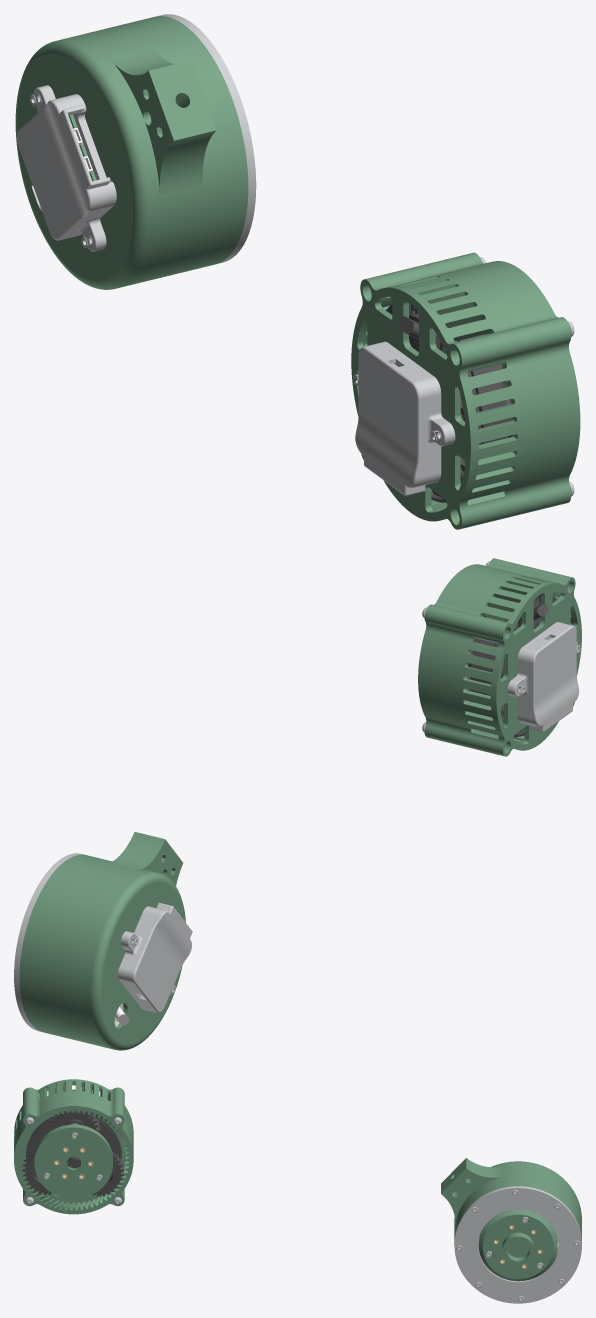
The model's file is actuator.glb.
3 renders of one model, top to bottom at view 1: azimuth 30°, elevation 25°; view 2: azimuth 150°, elevation 25°; view 3: azimuth 270°, elevation 25°, orthographic. The views are drawn at different scales.
Visible parts, largest first — view 1: lower_new_1_OpenQDD_Actuator_wheel_novos_rolamentos_2_motor_ (×6), OpenQDD_Actuator_reduced_novos_rolamentos_1_motor_1_BLDC_Cas, OpenQDD_Actuator_reduced_novos_rolamentos_1_motor_1_Output_B (×2), OpenQDD_Actuator_reduced_novos_rolamentos_1_motor_1_Componen (×2), OpenQDD_Actuator_reduced_novos_rolamentos_1_motor_1_Eagle_Po (×2); view 2: lower_new_1_OpenQDD_Actuator_wheel_novos_rolamentos_2_motor_ (×6), OpenQDD_Actuator_reduced_novos_rolamentos_1_motor_1_BLDC_Cas, OpenQDD_Actuator_reduced_novos_rolamentos_1_motor_1_Output_B (×2), OpenQDD_Actuator_reduced_novos_rolamentos_1_motor_1_Componen (×2); view 3: lower_new_1_OpenQDD_Actuator_wheel_novos_rolamentos_2_motor_ (×5), OpenQDD_Actuator_reduced_novos_rolamentos_1_motor_1_Planet_C (×2), OpenQDD_Actuator_reduced_novos_rolamentos_1_motor_1_Output_B (×2), OpenQDD_Actuator_reduced_novos_rolamentos_1_motor_1_BLDC_Cas, OpenQDD_Actuator_reduced_novos_rolamentos_1_motor_1_28T_Heli (×3).
Boxes of the visible parts, box(x1,y1,x2,y2) form: lower_new_1_OpenQDD_Actuator_wheel_novos_rolamentos_2_motor_ (×6): box(15, 14, 256, 289); OpenQDD_Actuator_reduced_novos_rolamentos_1_motor_1_BLDC_Cas: box(351, 263, 535, 529); OpenQDD_Actuator_reduced_novos_rolamentos_1_motor_1_Output_B (×2): box(429, 252, 580, 513); OpenQDD_Actuator_reduced_novos_rolamentos_1_motor_1_Componen (×2): box(355, 341, 455, 495); OpenQDD_Actuator_reduced_novos_rolamentos_1_motor_1_Eagle_Po (×2): box(386, 303, 505, 502); lower_new_1_OpenQDD_Actuator_wheel_novos_rolamentos_2_motor_ (×6): box(14, 832, 192, 1050); OpenQDD_Actuator_reduced_novos_rolamentos_1_motor_1_BLDC_Cas: box(450, 566, 581, 756); OpenQDD_Actuator_reduced_novos_rolamentos_1_motor_1_Output_B (×2): box(418, 558, 525, 744); OpenQDD_Actuator_reduced_novos_rolamentos_1_motor_1_Componen (×2): box(507, 622, 578, 732); lower_new_1_OpenQDD_Actuator_wheel_novos_rolamentos_2_motor_ (×5): box(441, 1158, 581, 1303); OpenQDD_Actuator_reduced_novos_rolamentos_1_motor_1_Planet_C (×2): box(28, 1116, 119, 1198); OpenQDD_Actuator_reduced_novos_rolamentos_1_motor_1_Output_B (×2): box(14, 1095, 133, 1214); OpenQDD_Actuator_reduced_novos_rolamentos_1_motor_1_BLDC_Cas: box(14, 1079, 133, 1145); OpenQDD_Actuator_reduced_novos_rolamentos_1_motor_1_28T_Heli (×3): box(22, 1110, 124, 1196).
Bounding box in the file's own units: 0.1398 × 0.1655 × 0.5033.
